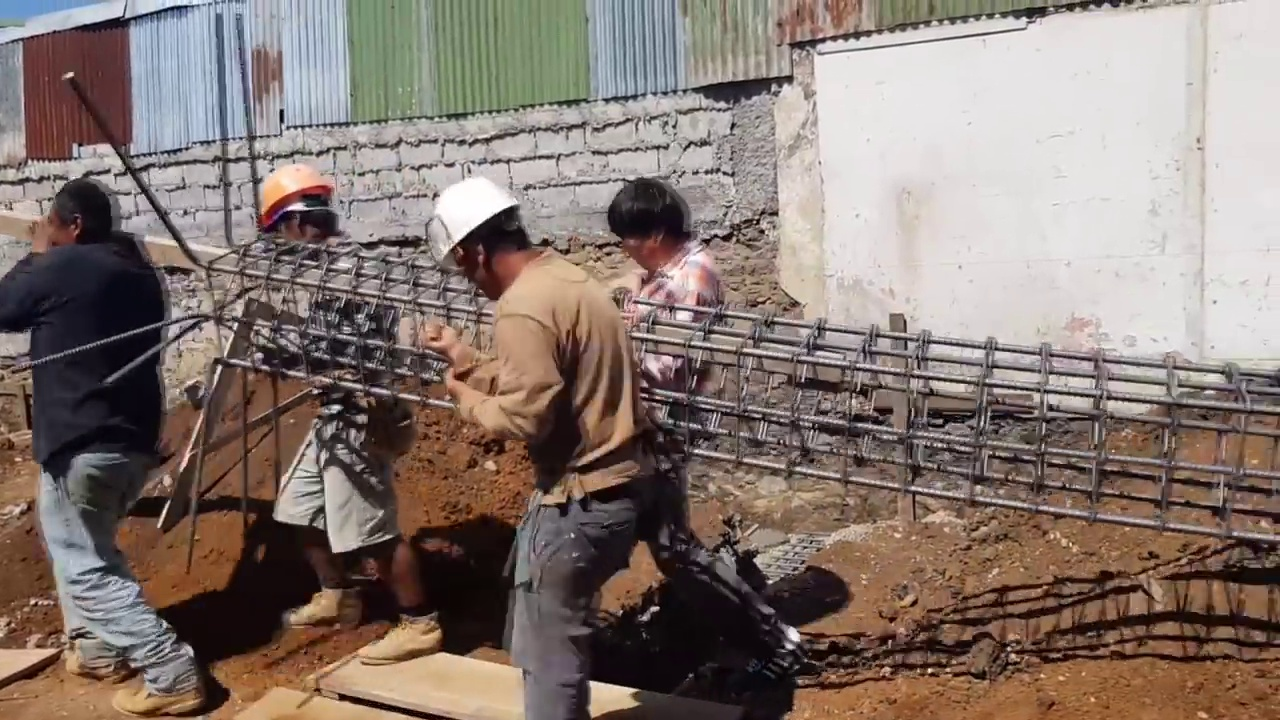helmet: (424, 176, 520, 266), (249, 164, 336, 225)
helmet-off: (608, 178, 695, 276), (41, 181, 114, 249)
helmet-on: (425, 176, 550, 303), (250, 161, 343, 245)
person: (420, 169, 646, 720), (1, 161, 205, 720), (247, 159, 439, 662), (605, 172, 801, 653)
